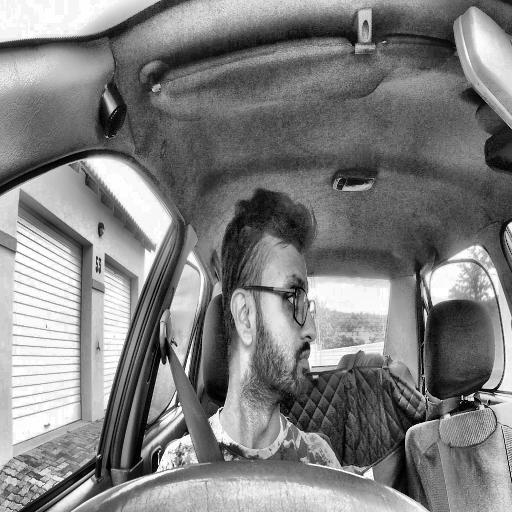awake: (219, 186, 317, 418)
